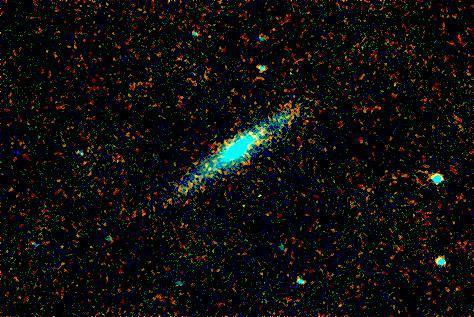star: (244, 131, 274, 161)
